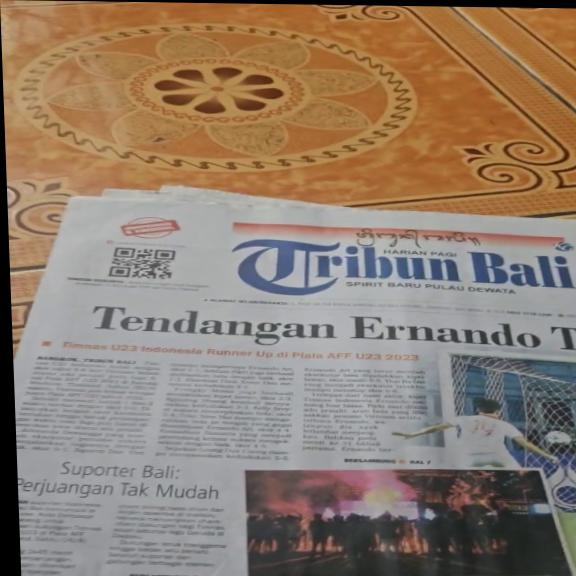Kertas: (70, 215, 576, 576)
